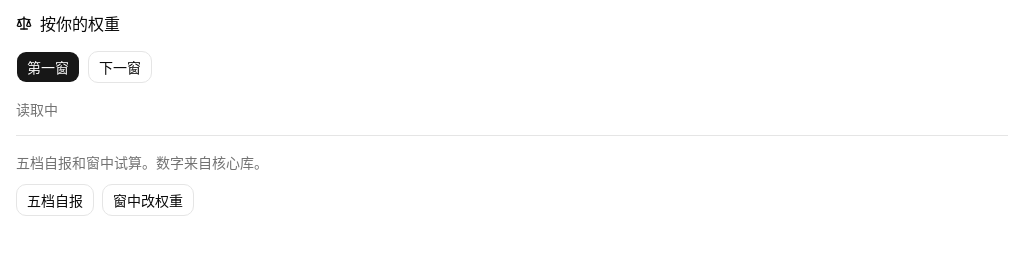
Test: a later window shows a withheld V from the shell
Click the button "下一窗" at (120, 67), box [88,51,152,83]
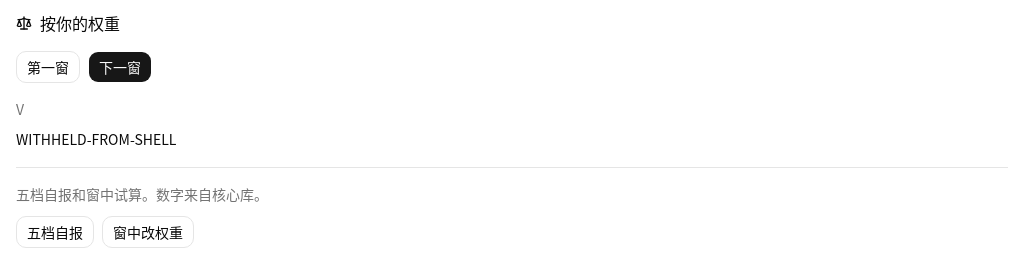
Check: the text "WITHHELD-FROM-SHELL" is shown, box [16,129,176,149]
